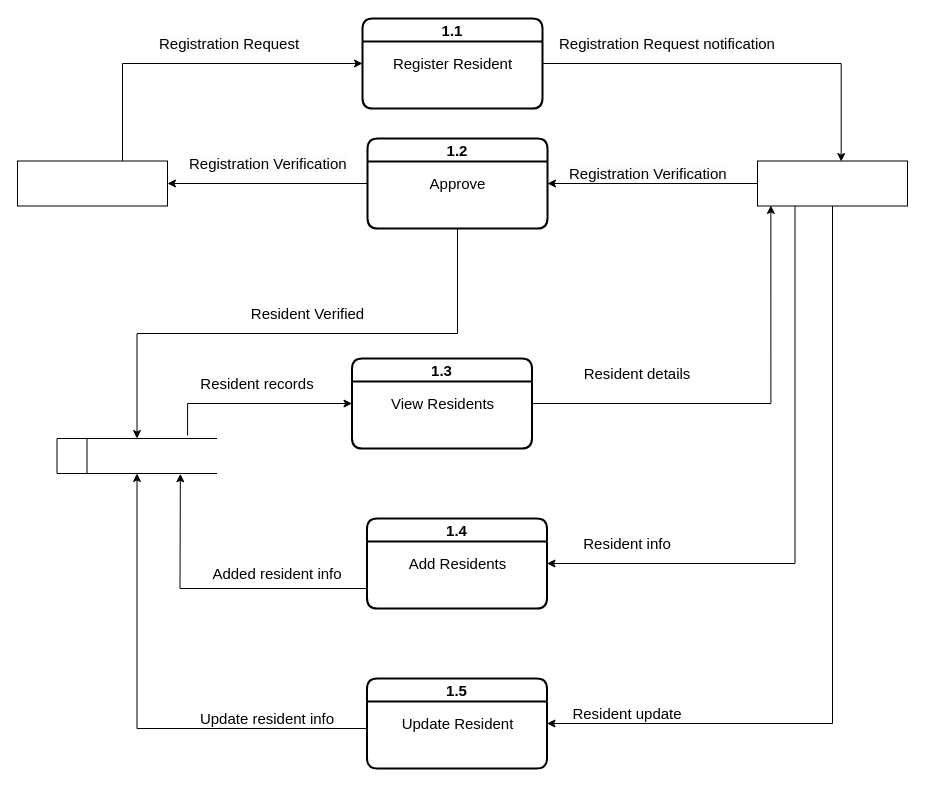
Some shapes in this 925 by 786 pixel diagram are drawn without their labels. The centre of each missing label's shape, as x and y in pixels:
"D1 Resident" goes at point 136,456.
"Resident" goes at point 92,183.
"Secretary" goes at point 832,183.
